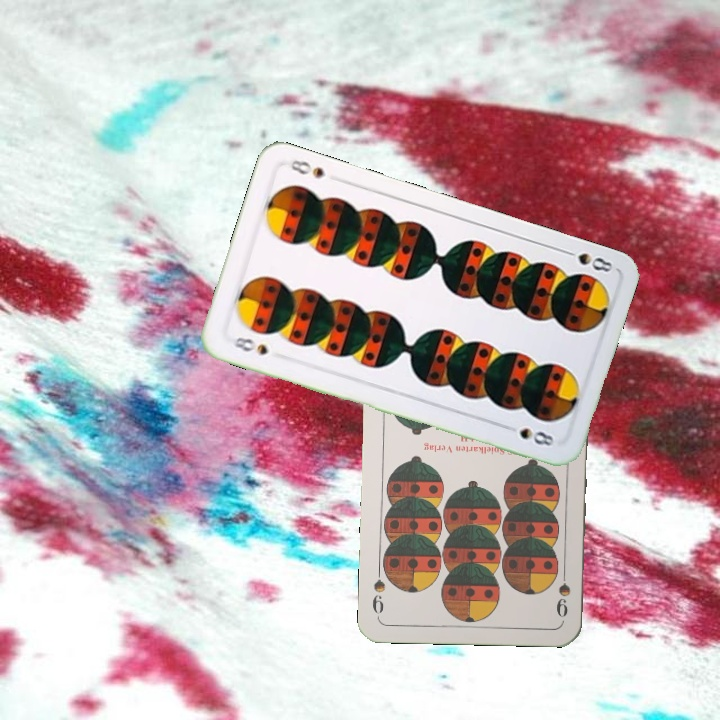S8: (558, 245, 616, 275), (224, 333, 271, 358)
S9: (552, 562, 573, 621)
